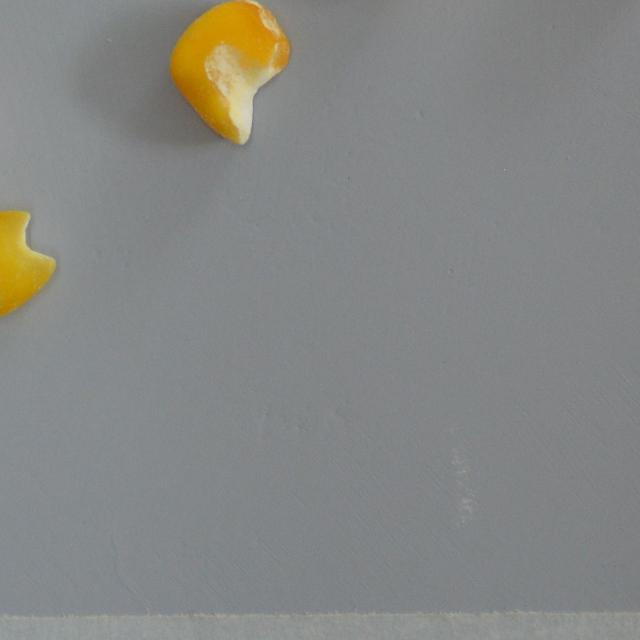dañado: (164, 0, 296, 151), (0, 208, 60, 322)
